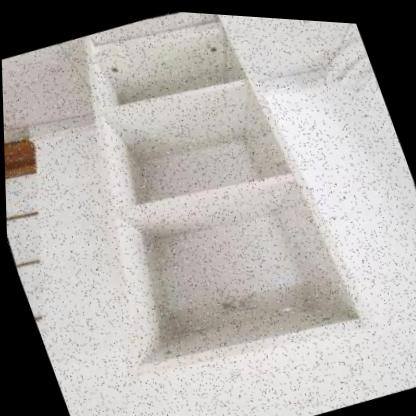Shelf: (4, 0, 407, 416)
